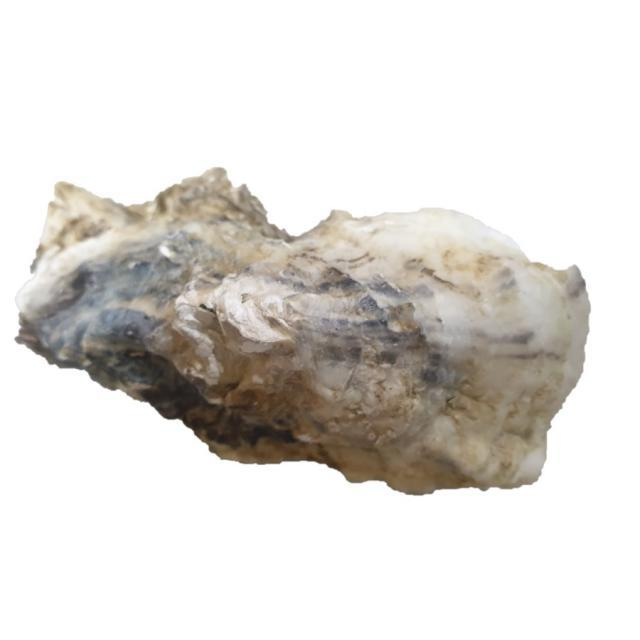Oyster- Indeterminate: (8, 163, 596, 501)
